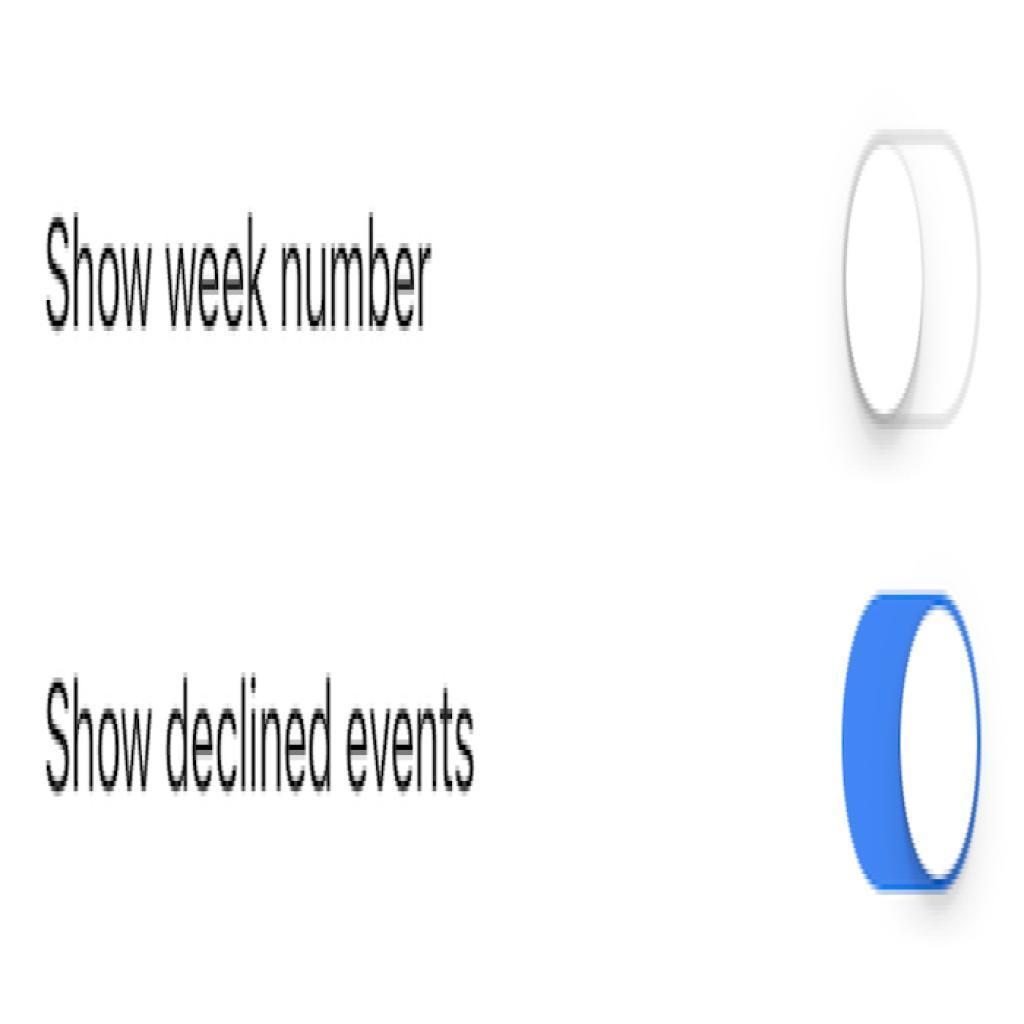switch: (841, 593, 983, 895), (844, 135, 984, 431)
